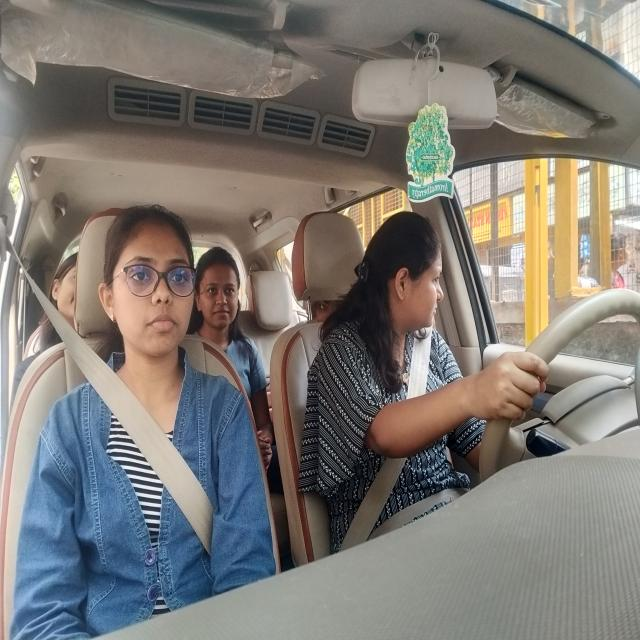LeftRight: (367, 216, 445, 344)
person: (99, 204, 203, 364), (198, 246, 245, 334), (52, 244, 83, 318)
